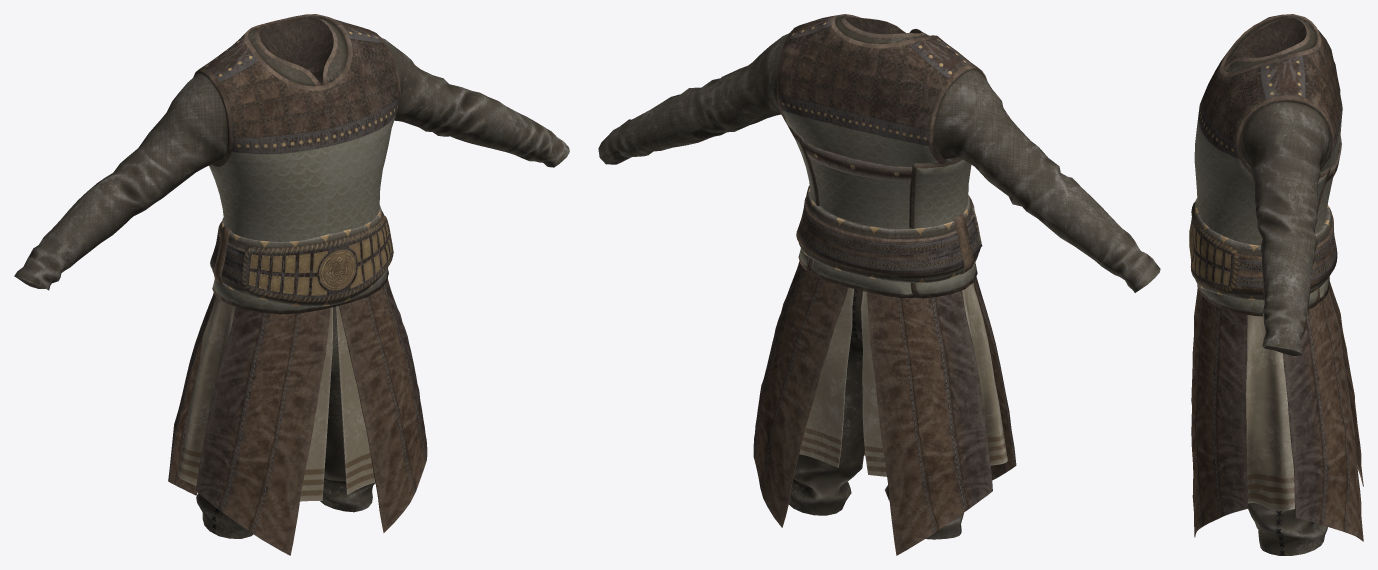
File: dunland_wulf_scalemail_heavy_a.fbx
3 views of the same model, side by side, from view 1: azimuth 30°, elevation 25°; view 2: azimuth 150°, elevation 25°; view 3: azimuth 270°, elevation 25° (orthographic).
Parts seen in each view (by area): view 1: dunland_wulf_scalemail_heavy_a.base, dunland_wulf_scalemail_heavy_a.leatherskirt, dunland_wulf_scalemail_heavy_a.belt, dunland_wulf_scalemail_heavy_a.skirt; view 2: dunland_wulf_scalemail_heavy_a.base, dunland_wulf_scalemail_heavy_a.leatherskirt, dunland_wulf_scalemail_heavy_a.belt, dunland_wulf_scalemail_heavy_a.skirt, dunland_wulf_scalemail_heavy_a.prop; view 3: dunland_wulf_scalemail_heavy_a.base, dunland_wulf_scalemail_heavy_a.leatherskirt, dunland_wulf_scalemail_heavy_a.skirt, dunland_wulf_scalemail_heavy_a.belt.
Part boxes in pixels (box(x1,y1,x2,y2)): dunland_wulf_scalemail_heavy_a.base: box(14, 14, 569, 538); dunland_wulf_scalemail_heavy_a.leatherskirt: box(168, 278, 427, 555); dunland_wulf_scalemail_heavy_a.belt: box(210, 205, 393, 306); dunland_wulf_scalemail_heavy_a.skirt: box(177, 297, 374, 501); dunland_wulf_scalemail_heavy_a.base: box(598, 14, 1160, 539); dunland_wulf_scalemail_heavy_a.leatherskirt: box(753, 261, 1016, 555); dunland_wulf_scalemail_heavy_a.belt: box(796, 185, 982, 282); dunland_wulf_scalemail_heavy_a.skirt: box(799, 282, 1007, 476); dunland_wulf_scalemail_heavy_a.prop: box(802, 141, 912, 181); dunland_wulf_scalemail_heavy_a.base: box(1194, 14, 1342, 555); dunland_wulf_scalemail_heavy_a.leatherskirt: box(1191, 281, 1363, 541); dunland_wulf_scalemail_heavy_a.skirt: box(1246, 315, 1294, 510); dunland_wulf_scalemail_heavy_a.belt: box(1189, 198, 1337, 300).
Size of the model in its own units: 1.38 by 0.3821 by 1.18.
4 materials, 4 textured.
